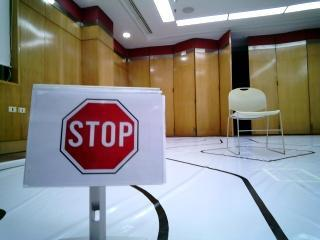stop: (33, 85, 159, 185)
